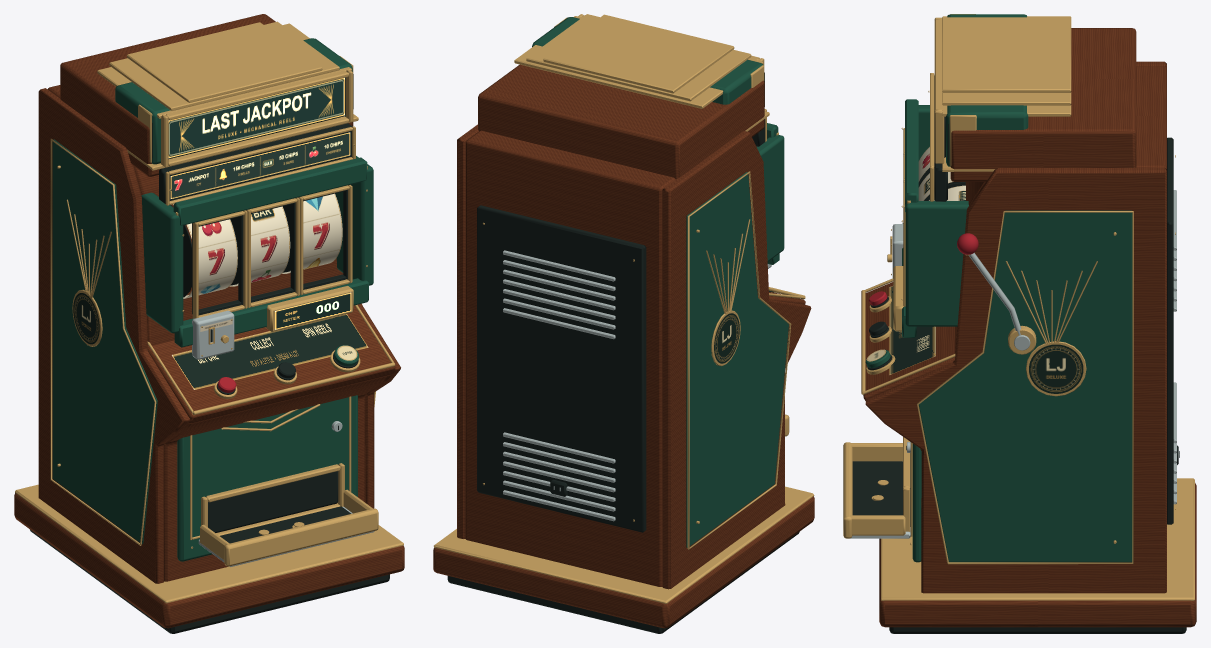
Rendered from slot-machine-emerald.glb.
The picture shows the model from 3 angles, left to right: view 1: azimuth 30°, elevation 25°; view 2: azimuth 150°, elevation 25°; view 3: azimuth 270°, elevation 25°; orthographic projection. The views are drawn at different scales.
Parts seen in each view (by area): view 1: emerald | 02 Emerald lacquer, emerald | 01 Polished walnut veneer, emerald | 03 Aged satin brass, emerald | 06 Ivory printed mechanical reels, emerald | 05 Black enamel and rubber, emerald | 07 Illuminated glass artwork, emerald | 04 Polished coin mechanism steel; view 2: emerald | 01 Polished walnut veneer, emerald | 05 Black enamel and rubber, emerald | 02 Emerald lacquer, emerald | 03 Aged satin brass, emerald | 04 Polished coin mechanism steel, emerald | 06 Ivory printed mechanical reels; view 3: emerald | 02 Emerald lacquer, emerald | 01 Polished walnut veneer, emerald | 03 Aged satin brass, emerald | 05 Black enamel and rubber, emerald | 06 Ivory printed mechanical reels, emerald | 04 Polished coin mechanism steel, emerald | 08 Oxblood Bakelite control.
Boxes of the visible parts, x1,y1,x2,y2 form: emerald | 02 Emerald lacquer: [52, 38, 373, 561]; emerald | 01 Polished walnut veneer: [14, 14, 404, 628]; emerald | 03 Aged satin brass: [15, 21, 403, 603]; emerald | 06 Ivory printed mechanical reels: [73, 193, 368, 389]; emerald | 05 Black enamel and rubber: [30, 74, 389, 633]; emerald | 07 Illuminated glass artwork: [168, 78, 351, 329]; emerald | 04 Polished coin mechanism steel: [192, 310, 374, 566]; emerald | 01 Polished walnut veneer: [433, 64, 814, 628]; emerald | 05 Black enamel and rubber: [447, 72, 799, 633]; emerald | 02 Emerald lacquer: [532, 17, 788, 547]; emerald | 03 Aged satin brass: [433, 14, 814, 603]; emerald | 04 Polished coin mechanism steel: [503, 250, 771, 521]; emerald | 06 Ivory printed mechanical reels: [714, 290, 777, 363]; emerald | 02 Emerald lacquer: [865, 14, 1132, 562]; emerald | 01 Polished walnut veneer: [863, 28, 1196, 627]; emerald | 03 Aged satin brass: [843, 14, 1194, 600]; emerald | 05 Black enamel and rubber: [852, 75, 1186, 633]; emerald | 06 Ivory printed mechanical reels: [866, 147, 1083, 393]; emerald | 04 Polished coin mechanism steel: [850, 190, 1179, 538]; emerald | 08 Oxblood Bakelite control: [869, 233, 978, 305].
Size of the model in its own units: 0.962 by 1.92 by 1.16.
8 materials, 3 textured.
